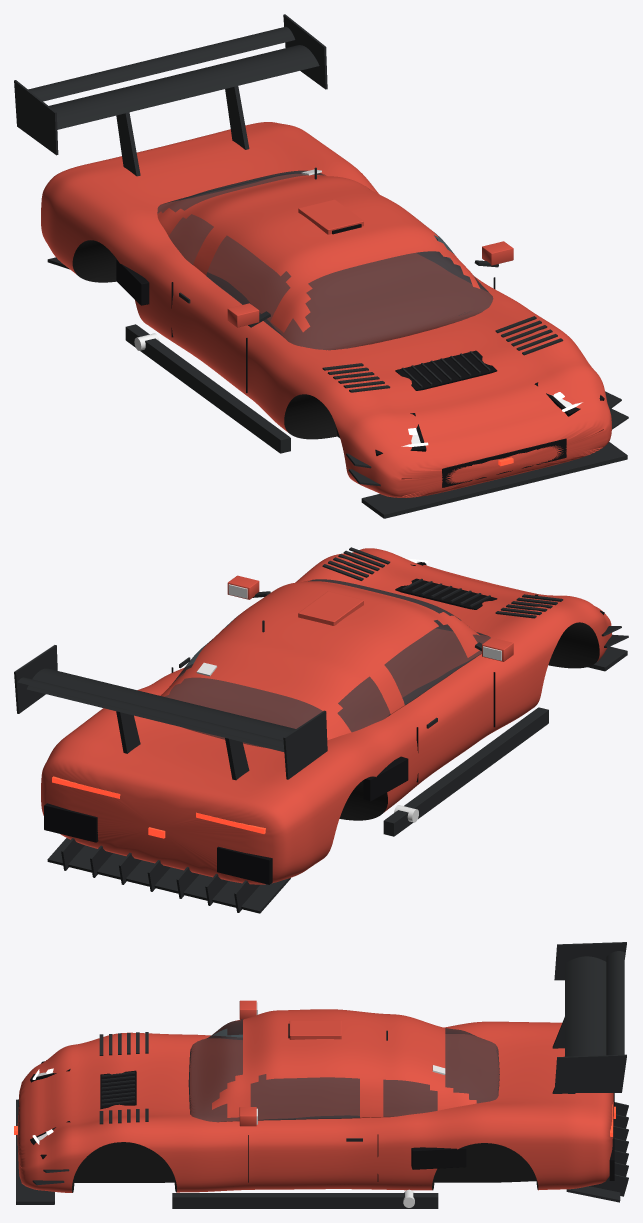
Rendered from gt-body.glb.
3 views of the same model, one above another, from view 1: azimuth 30°, elevation 25°; view 2: azimuth 150°, elevation 25°; view 3: azimuth 270°, elevation 25° (orthographic). The views are drawn at different scales.
Visible parts, largest first — view 1: Body, Cabin, WingMain, WingFlap, Splitter, Skirt, Endplate, HoodVent, RoofScoop, Endplate.001, GrilleMain, WingMount.001 (+2 smaller); view 2: Body, Cabin, WingMain, Skirt, Diffuser, WingFlap, Endplate, RearVent, RearVent.001, RoofScoop, Endplate.001, SideIntake (+3 smaller); view 3: Body, Cabin, Skirt.001, WingMain, Endplate.001, WingFlap, Endplate, SideIntake.001, RoofScoop, HoodVent, Splitter, Diffuser (+1 smaller).
Part boxes in pixels (x1,y1,x2,y2): Body: (41, 122, 611, 497); Cabin: (157, 170, 493, 350); WingMain: (49, 45, 319, 129); WingFlap: (28, 26, 295, 101); Splitter: (361, 442, 627, 518); Skirt: (125, 324, 290, 453); Endplate: (14, 80, 58, 155); HoodVent: (395, 350, 497, 390); RoofScoop: (298, 199, 363, 234); Endplate.001: (283, 14, 327, 89); GrilleMain: (442, 438, 566, 487); WingMount.001: (225, 86, 249, 149); Body: (41, 548, 611, 884); Cabin: (160, 579, 490, 747); WingMain: (27, 668, 295, 751); Skirt: (383, 707, 548, 836); Diffuser: (47, 838, 290, 913); WingFlap: (17, 677, 283, 747); Endplate: (283, 710, 327, 779); RearVent: (217, 846, 272, 884); RearVent.001: (44, 803, 98, 842); RoofScoop: (298, 591, 363, 625); Endplate.001: (14, 645, 57, 713); SideIntake: (363, 756, 408, 801); Body: (17, 1021, 613, 1192); Cabin: (188, 1009, 499, 1122); Skirt.001: (172, 1193, 438, 1208); WingMain: (565, 956, 606, 1056); Endplate.001: (554, 1054, 626, 1092); WingFlap: (606, 951, 624, 1055); Endplate: (554, 942, 626, 980); SideIntake.001: (411, 1146, 466, 1169); RoofScoop: (289, 1020, 341, 1039); HoodVent: (100, 1070, 136, 1109); Splitter: (16, 1099, 54, 1204); Diffuser: (566, 1186, 620, 1202).
Bounding box in the file's own units: 2.12 × 1.37 × 4.74.
